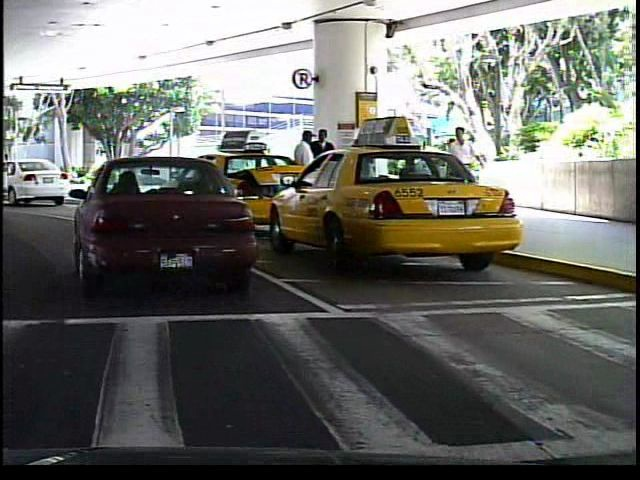person: (441, 121, 482, 218), (289, 126, 318, 215), (440, 131, 473, 207), (311, 126, 337, 210)
